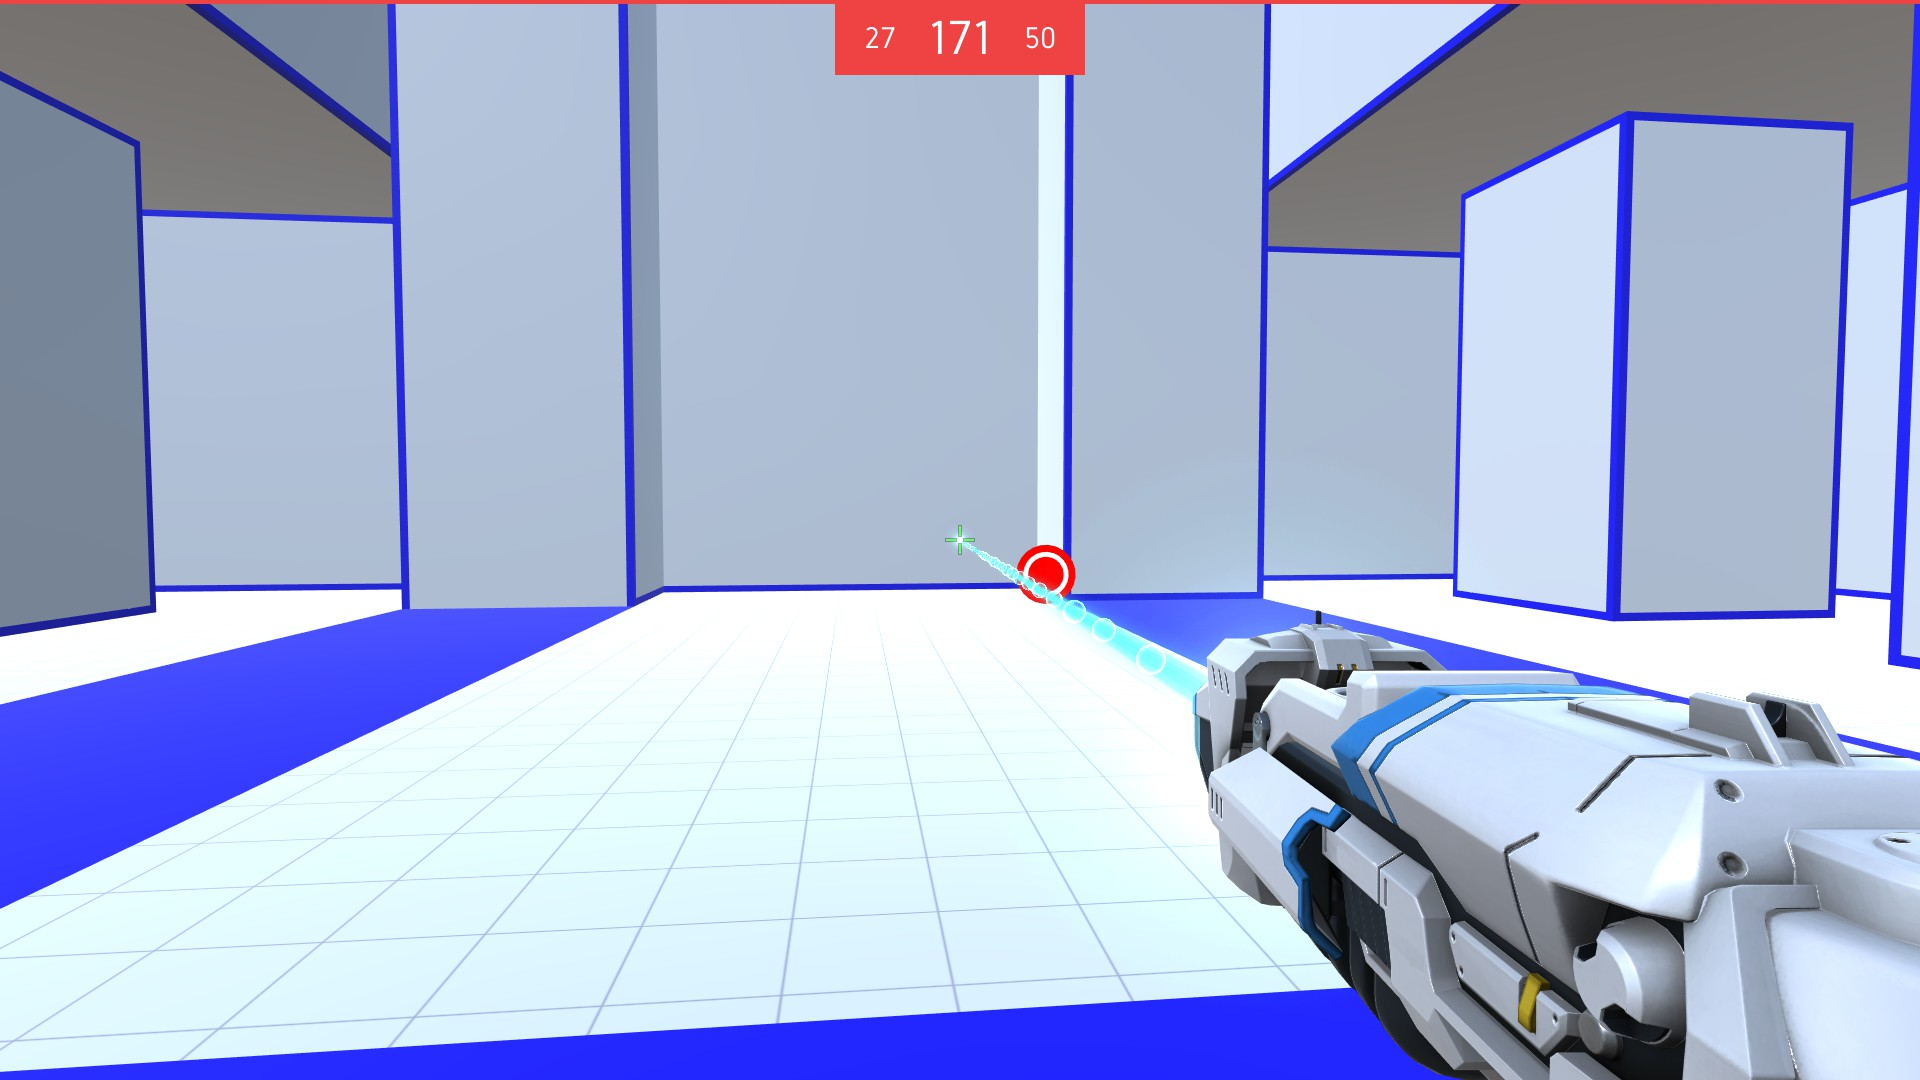target: (1017, 545, 1077, 607)
